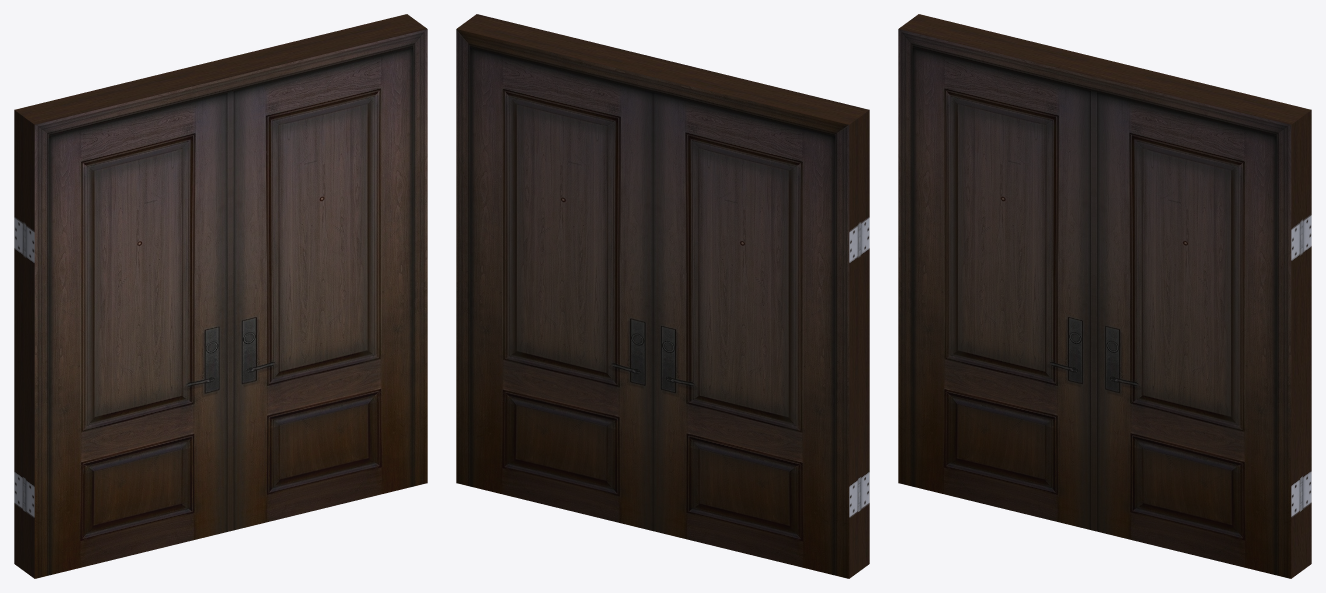
File: Puerta_F.fbx
3 renders of one model, left to right at view 1: azimuth 30°, elevation 25°; view 2: azimuth 150°, elevation 25°; view 3: azimuth 330°, elevation 25°, orthographic.
Visible parts, largest first — view 1: Puerta1_F, Puerta2_F; view 2: Puerta1_F, Puerta2_F; view 3: Puerta2_F, Puerta1_F.
Boxes of the visible parts, box(x1,y1,x2,y2) form: Puerta1_F: box(14, 62, 230, 578); Puerta2_F: box(210, 14, 427, 531); Puerta1_F: box(653, 62, 869, 578); Puerta2_F: box(456, 14, 673, 531); Puerta2_F: box(1093, 61, 1311, 578); Puerta1_F: box(898, 14, 1113, 530).
Bounding box in the file's own units: 408 × 451 × 36.97.
2 materials, 2 textured.
